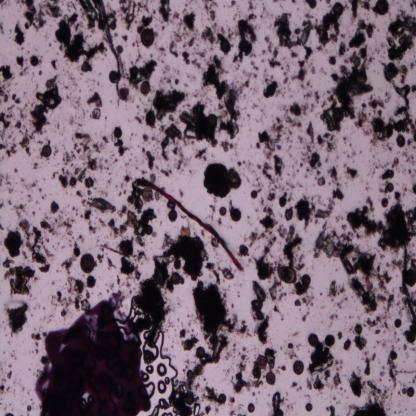Air bubble: (153, 330, 179, 403), (144, 381, 156, 399), (156, 362, 168, 378), (157, 379, 167, 395), (193, 402, 202, 414), (146, 363, 154, 375), (142, 373, 150, 381)
Background material: (313, 233, 397, 314), (191, 278, 250, 362), (344, 192, 416, 249), (327, 45, 375, 121), (56, 128, 112, 193), (24, 201, 73, 275), (199, 56, 242, 138), (56, 13, 108, 70), (133, 259, 171, 336), (157, 222, 209, 278), (144, 84, 192, 130), (367, 102, 416, 146), (178, 100, 221, 148), (255, 116, 287, 180), (29, 74, 62, 136), (347, 372, 389, 415), (308, 344, 342, 394), (386, 8, 416, 61), (248, 228, 278, 280), (52, 276, 91, 316), (274, 11, 313, 50), (159, 122, 187, 173), (277, 223, 307, 270), (203, 162, 242, 198), (231, 12, 258, 64), (117, 206, 157, 241), (2, 258, 36, 297), (23, 0, 63, 32), (250, 283, 271, 342), (299, 142, 326, 187), (314, 188, 344, 228), (55, 67, 81, 113), (282, 90, 314, 126), (115, 234, 141, 278), (2, 299, 30, 336), (0, 63, 23, 108), (313, 12, 341, 48), (122, 57, 154, 88), (288, 283, 314, 320), (18, 171, 46, 205), (348, 17, 376, 50), (231, 353, 252, 394), (171, 380, 194, 415), (295, 195, 316, 232), (262, 68, 286, 99), (3, 228, 25, 260), (322, 96, 340, 134), (354, 100, 372, 137), (380, 61, 408, 84), (386, 340, 399, 389), (86, 193, 116, 214), (266, 182, 293, 205), (338, 129, 360, 157), (327, 281, 349, 308), (265, 36, 282, 70), (128, 178, 144, 214), (62, 241, 80, 273), (366, 314, 392, 336), (202, 383, 228, 405), (119, 0, 138, 30), (268, 278, 288, 306), (256, 202, 276, 230), (80, 204, 98, 234), (0, 362, 16, 395), (214, 23, 232, 52), (85, 92, 103, 121), (179, 327, 199, 352), (353, 323, 369, 353), (12, 20, 29, 48), (318, 130, 337, 155), (382, 166, 398, 195), (180, 10, 198, 35), (158, 0, 173, 29), (141, 148, 158, 172), (291, 60, 308, 83), (206, 260, 221, 285), (244, 62, 258, 88), (0, 139, 20, 157), (228, 199, 243, 223), (0, 108, 12, 137), (245, 0, 262, 20), (272, 390, 285, 416), (15, 53, 29, 77), (12, 200, 27, 222), (326, 163, 340, 186), (114, 82, 130, 102), (200, 25, 215, 46), (399, 149, 416, 167), (282, 341, 298, 360), (20, 132, 32, 157), (108, 215, 121, 238), (363, 353, 377, 374), (265, 346, 277, 370), (0, 172, 13, 194), (114, 139, 130, 156), (369, 95, 384, 113), (345, 164, 359, 183), (166, 39, 180, 58), (252, 368, 264, 389), (347, 0, 359, 21), (220, 265, 236, 280), (120, 29, 133, 46), (238, 242, 251, 259), (139, 14, 154, 28), (205, 3, 217, 20), (306, 123, 315, 145), (181, 49, 192, 67), (84, 272, 95, 289), (14, 115, 25, 132), (219, 140, 234, 152), (28, 332, 44, 343), (303, 45, 314, 60), (250, 186, 263, 198), (291, 380, 303, 393), (195, 148, 207, 160), (285, 206, 294, 222), (160, 166, 173, 177), (338, 41, 346, 58), (343, 338, 352, 353), (50, 56, 59, 71), (324, 404, 335, 416), (304, 0, 317, 10), (31, 159, 40, 173), (113, 126, 123, 138), (393, 318, 403, 329), (361, 1, 371, 12), (132, 113, 142, 124), (182, 38, 195, 46), (248, 401, 256, 414), (313, 90, 321, 102), (381, 196, 389, 208), (328, 55, 336, 66), (203, 403, 211, 414), (411, 180, 416, 197), (408, 0, 416, 10), (142, 132, 150, 142), (290, 50, 299, 58), (0, 22, 6, 34), (337, 329, 342, 341), (410, 83, 416, 93), (27, 402, 32, 413), (410, 62, 416, 70)
Cellulose filter fibre: (95, 0, 122, 76), (400, 246, 416, 340), (390, 79, 410, 103)
Cotton: (139, 176, 245, 272)
Diatom: (277, 266, 297, 285), (80, 252, 95, 273), (141, 27, 155, 48), (375, 0, 389, 17), (405, 268, 416, 288), (292, 360, 305, 375), (300, 271, 312, 287), (141, 186, 152, 203), (332, 2, 344, 17), (324, 333, 336, 347), (139, 81, 151, 95), (256, 355, 268, 369), (332, 108, 344, 122), (20, 219, 31, 234), (29, 55, 40, 70), (41, 144, 52, 159), (308, 333, 319, 347), (170, 271, 181, 285), (195, 346, 206, 359), (109, 68, 118, 83), (396, 134, 405, 148), (265, 372, 275, 384), (195, 363, 205, 375), (168, 209, 177, 222), (185, 394, 195, 405), (406, 385, 414, 398), (304, 401, 313, 412), (219, 205, 227, 217)
Pen: (36, 289, 148, 415)
